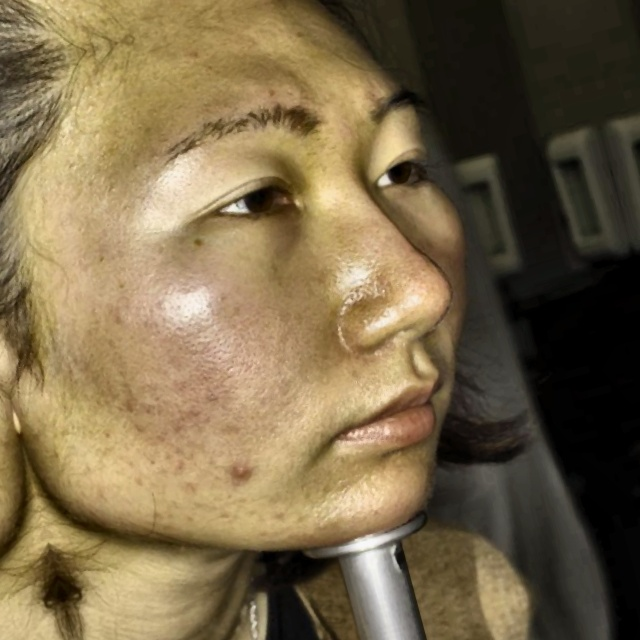comedone: (220, 455, 259, 493)
